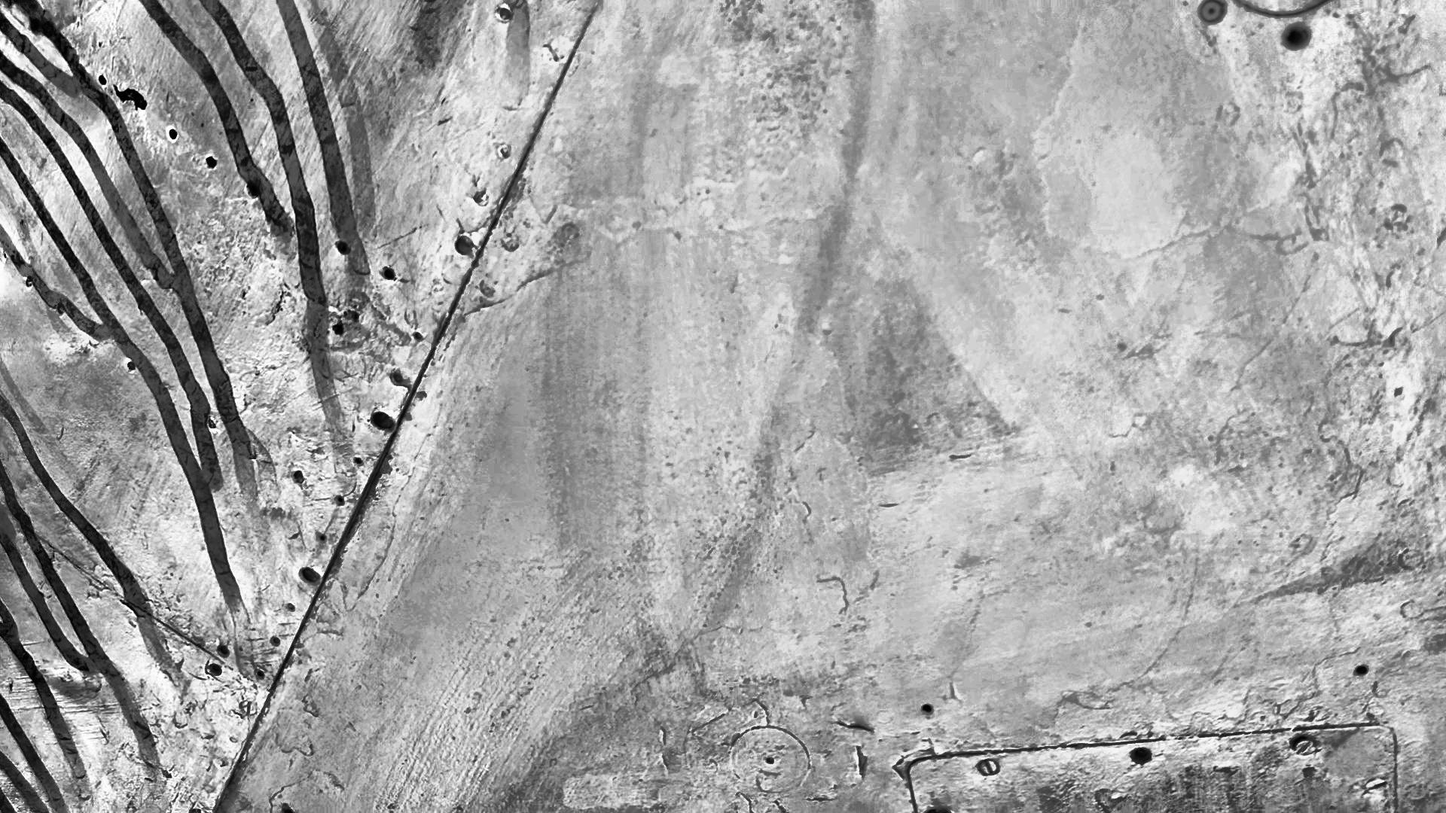dent: (45, 666, 102, 696)
missing-head: (1286, 26, 1310, 49), (371, 412, 394, 431), (335, 237, 352, 256), (1132, 747, 1150, 764), (301, 566, 318, 583), (207, 662, 224, 678), (382, 265, 399, 280), (203, 154, 218, 171), (168, 126, 183, 143), (456, 235, 471, 252), (247, 183, 262, 199), (218, 644, 232, 659), (390, 371, 405, 384), (318, 531, 328, 546), (354, 454, 363, 469), (271, 634, 282, 646), (335, 495, 345, 508), (256, 670, 265, 679)
paint-peel-off: (113, 85, 151, 113)
